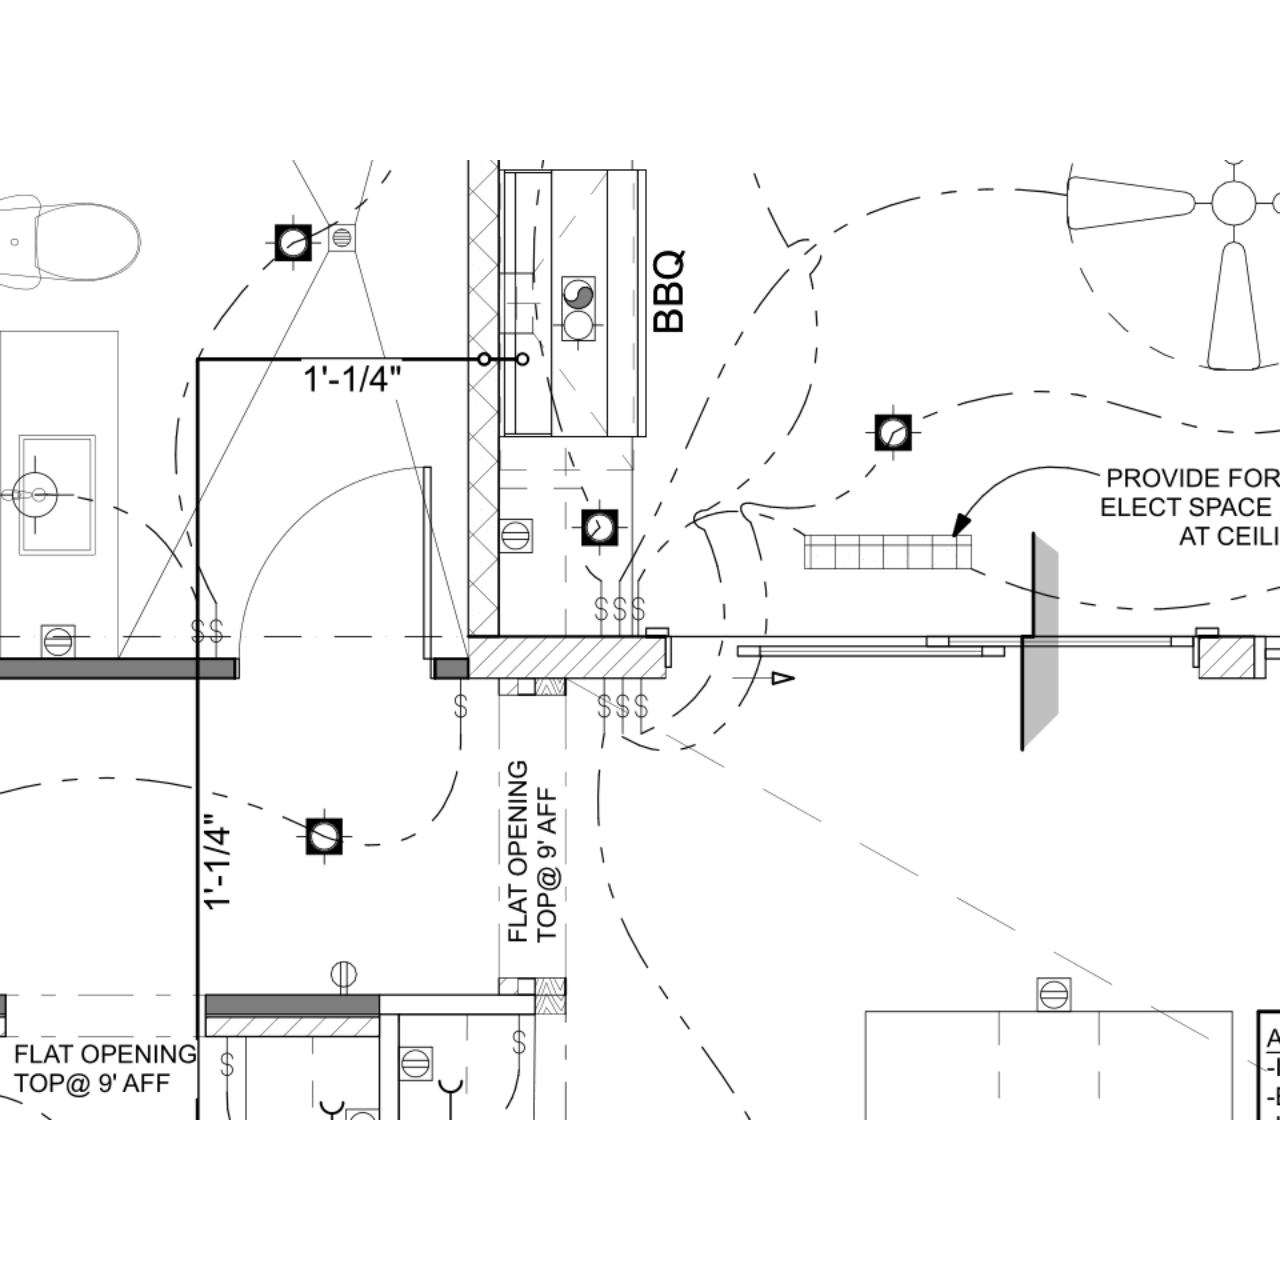Ceiling Fan: (1060, 160, 1280, 374)
Ceiling Light: (1, 452, 74, 538)
Duplex Outlet: (330, 960, 358, 996)
GFCIOutlet: (1037, 977, 1071, 1011), (398, 1047, 434, 1079), (41, 624, 74, 656), (500, 520, 532, 552), (344, 1108, 376, 1120)
Switch: (187, 609, 209, 657), (614, 580, 630, 636), (630, 581, 646, 635), (211, 612, 225, 658)
ress_can_light: (266, 213, 322, 273), (574, 498, 630, 554)
